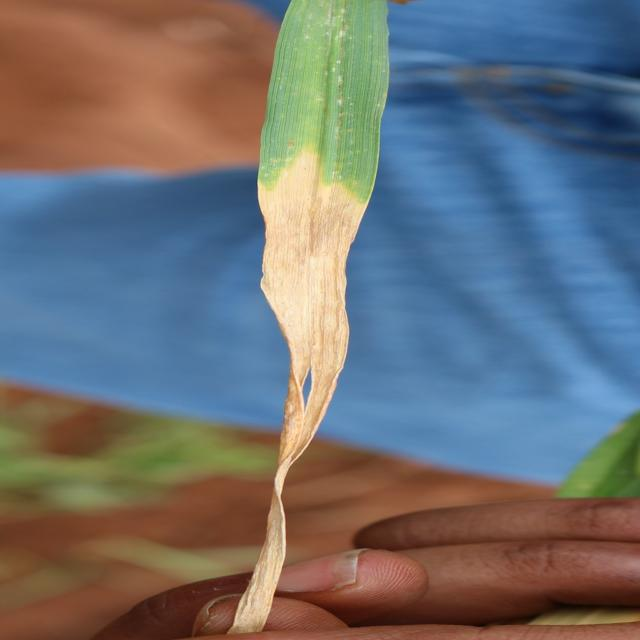Septoria: (219, 1, 395, 636)
